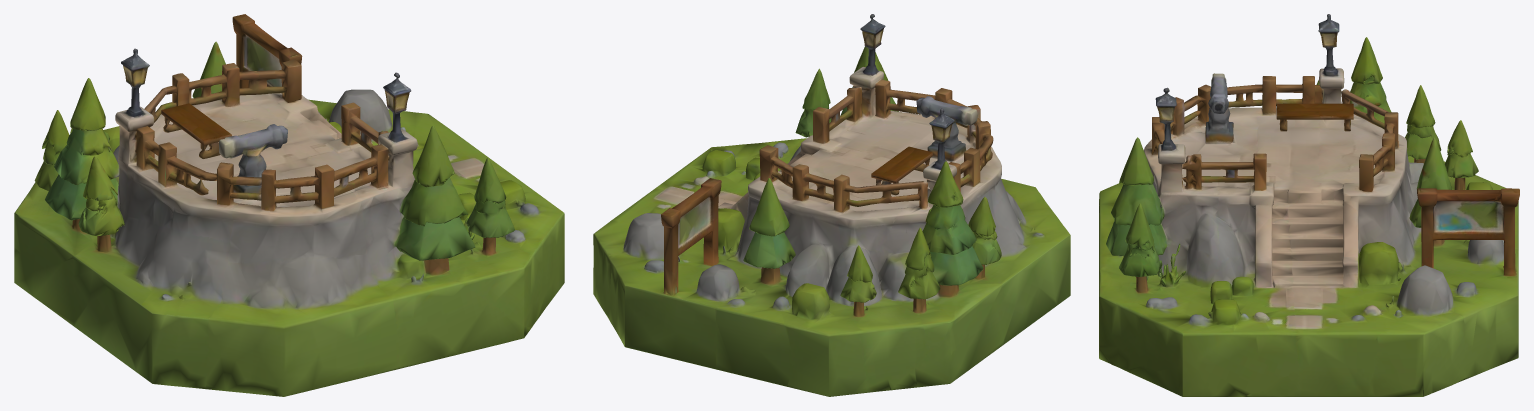
Rendered from viewpoint.glb.
3 renders of one model, left to right at view 1: azimuth 30°, elevation 25°; view 2: azimuth 150°, elevation 25°; view 3: azimuth 270°, elevation 25°, orthographic. The views are drawn at different scales.
Visible parts, largest first — view 1: tripo_node_cc540216-0242-490e-90a9-de2d3bf26b2a; view 2: tripo_node_cc540216-0242-490e-90a9-de2d3bf26b2a; view 3: tripo_node_cc540216-0242-490e-90a9-de2d3bf26b2a.
Part boxes in pixels (<box>): tripo_node_cc540216-0242-490e-90a9-de2d3bf26b2a: <box>14,14,564,396</box>; tripo_node_cc540216-0242-490e-90a9-de2d3bf26b2a: <box>593,14,1070,396</box>; tripo_node_cc540216-0242-490e-90a9-de2d3bf26b2a: <box>1099,14,1519,396</box>.
Size of the model in its own units: 0.9999 by 0.6014 by 0.9872.
1 material, 1 textured.
